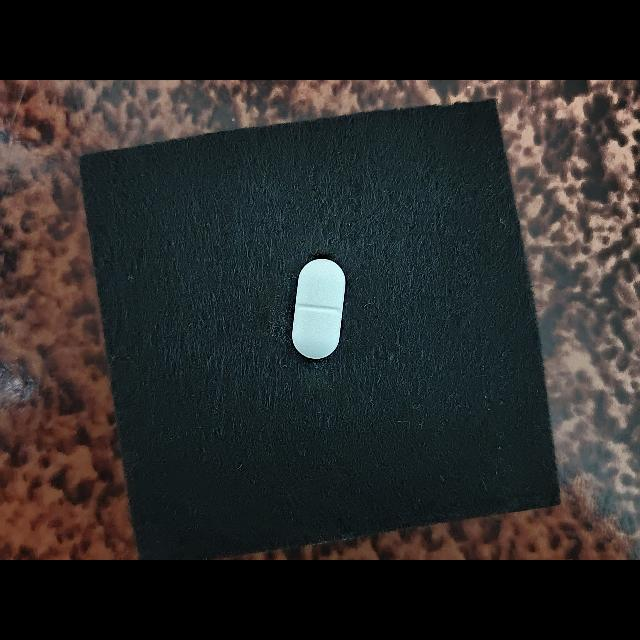Intact Pill: (292, 258, 346, 359)
